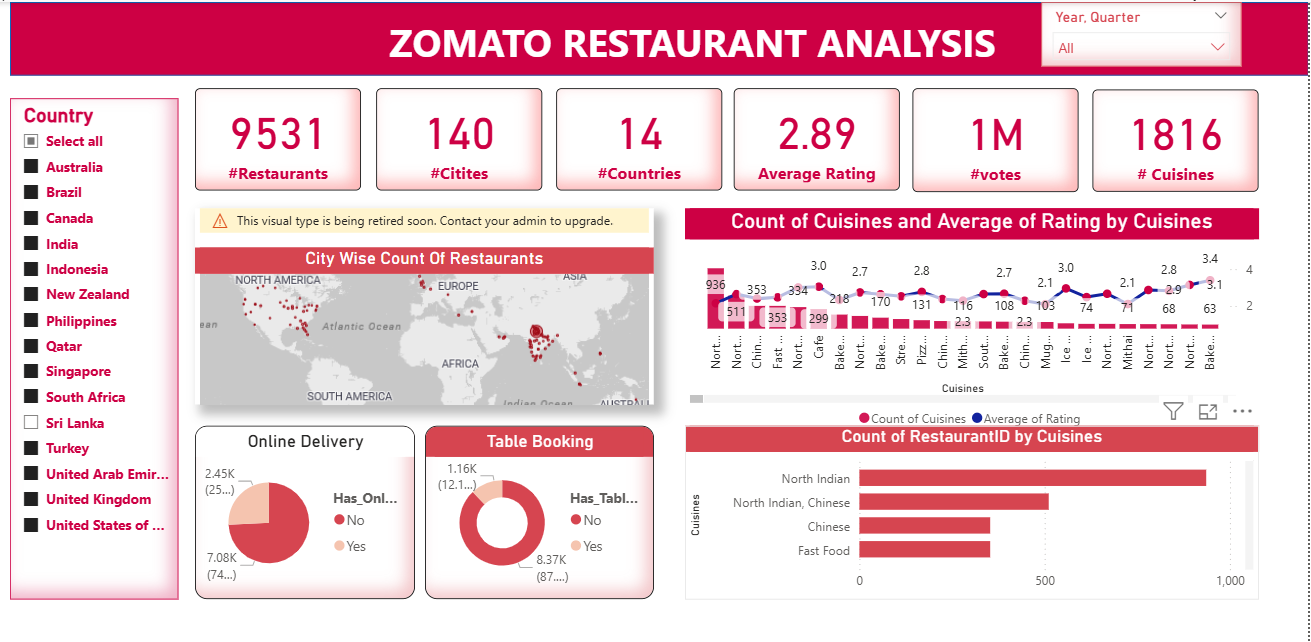

The page's visual inventory and layout, read from the dashboard file:
{"tool":"powerbi","page":{"name":"Page 1","canvas":[1280,720],"ordinal":0},"visuals":[{"type":"shape","box":[9.8,0,1270.5,72.1],"z":0},{"type":"textbox","box":[302,8.6,758.2,55],"z":1000},{"type":"card","fields":{"Values":["Count(Restaurants.RestaurantID)"]},"box":[190.8,84.4,162.6,100.3],"z":2000},{"type":"card","fields":{"Values":["Avg(Restaurants.Rating)"]},"box":[717.8,84.4,162.6,100.3],"z":3000},{"type":"card","fields":{"Values":["Sum(Restaurants.Votes)"]},"box":[892.7,84.4,162.6,101.5],"z":4000},{"type":"card","fields":{"Values":["Count(Restaurants.City)"]},"box":[368.1,84.4,162.6,100.3],"z":5000},{"type":"card","fields":{"Values":["Count(Restaurants.CountryCode)"]},"box":[544.2,84.4,162.6,100.3],"z":6000},{"type":"card","fields":{"Values":["Count(Restaurants.Cuisines)"]},"box":[1068.8,85.6,162.6,100.3],"z":7000},{"type":"slicer","fields":{"Values":["Countries.country name"]},"box":[9.8,94.2,165.1,490.4],"z":8000},{"type":"lineStackedColumnComboChart","fields":{"Category":["Restaurants.Cuisines"],"Y":["CountNonNull(Restaurants.Cuisines)"],"Y2":["Avg(Restaurants.Rating)"]},"box":[670.1,201.8,561.3,223.8],"z":9000},{"type":"map","title":"City Wise Count Of Restaurants","fields":{"Category":["Restaurants.City"],"Size":["CountNonNull(Restaurants.RestaurantID)"]},"box":[190.8,201.8,448.8,192],"z":10000},{"type":"clusteredBarChart","fields":{"Category":["Restaurants.Cuisines"],"Y":["CountNonNull(Restaurants.RestaurantID)"]},"box":[670.1,414.5,561.3,170],"z":11000},{"type":"pieChart","title":"Online Delivery","fields":{"Category":["Restaurants.Has_Online_delivery"],"Y":["CountNonNull(Restaurants.RestaurantID)"]},"box":[190.8,414.5,215.2,170],"z":12000},{"type":"donutChart","title":"Table Booking","fields":{"Category":["Restaurants.Has_Table_booking"],"Y":["CountNonNull(Restaurants.RestaurantID)"]},"box":[415.8,414.5,223.8,170],"z":13000},{"type":"slicer","fields":{"Values":["Restaurants.Datekey_Opening.Variation.Date Hierarchy.Year","Restaurants.Datekey_Opening.Variation.Date Hierarchy.Quarter"]},"box":[1018.6,0,195.7,63.6],"z":14000}]}

Visuals, with their boxes on the page's 1280x720 design canvas (x1, y1, x2, y2). These are canvas units, not pixel positions in the 1311x642 screenshot, which may show the page scaled, cropped or inside an application window:
shape: [10, 0, 1280, 72]
textbox: [302, 9, 1060, 64]
card - Count(Restaurants.RestaurantID): [191, 84, 353, 185]
card - Avg(Restaurants.Rating): [718, 84, 880, 185]
card - Sum(Restaurants.Votes): [893, 84, 1055, 186]
card - Count(Restaurants.City): [368, 84, 531, 185]
card - Count(Restaurants.CountryCode): [544, 84, 707, 185]
card - Count(Restaurants.Cuisines): [1069, 86, 1231, 186]
slicer - Countries.country name: [10, 94, 175, 585]
lineStackedColumnComboChart - Restaurants.Cuisines x CountNonNull(Restaurants.Cuisines): [670, 202, 1231, 426]
"City Wise Count Of Restaurants" map: [191, 202, 640, 394]
clusteredBarChart - Restaurants.Cuisines x CountNonNull(Restaurants.RestaurantID): [670, 414, 1231, 584]
"Online Delivery" pieChart: [191, 414, 406, 584]
"Table Booking" donutChart: [416, 414, 640, 584]
slicer - Restaurants.Datekey_Opening.Variation.Date Hierarchy.Year x Restaurants.Datekey_Opening.Variation.Date Hierarchy.Quarter: [1019, 0, 1214, 64]
